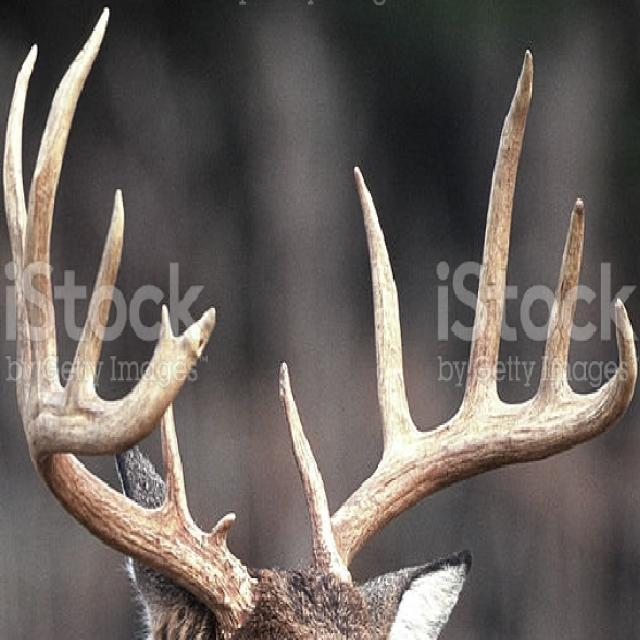E1: (210, 510, 236, 549)
L-G1: (278, 361, 332, 546)
L-G2: (352, 165, 423, 469)
L-G3: (455, 47, 534, 416)
L-G4: (530, 196, 586, 404)
R-F: (22, 305, 259, 640)
R-G3: (22, 6, 110, 399)
